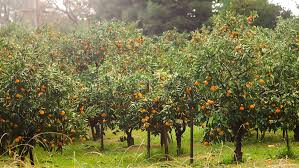orange: (209, 86, 216, 92)
